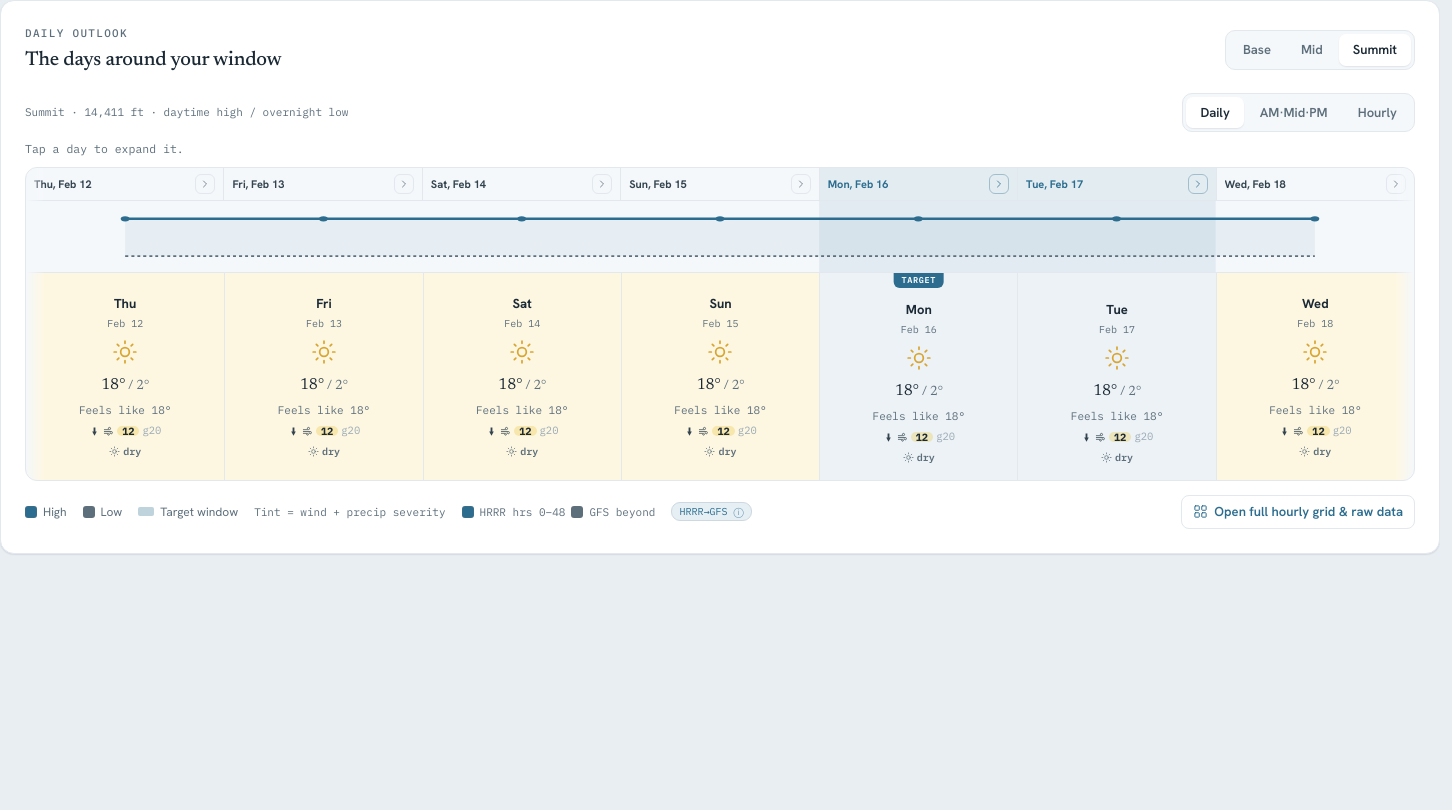
DailyOutlook › collapse control steps ONE level (hour → period), not all the way to day
The width and height of the screenshot is (1452, 810).
Click the button named "Expand Thu, Feb 12 to AM·Mid·PM detail": (205, 184) [195, 174, 215, 194]
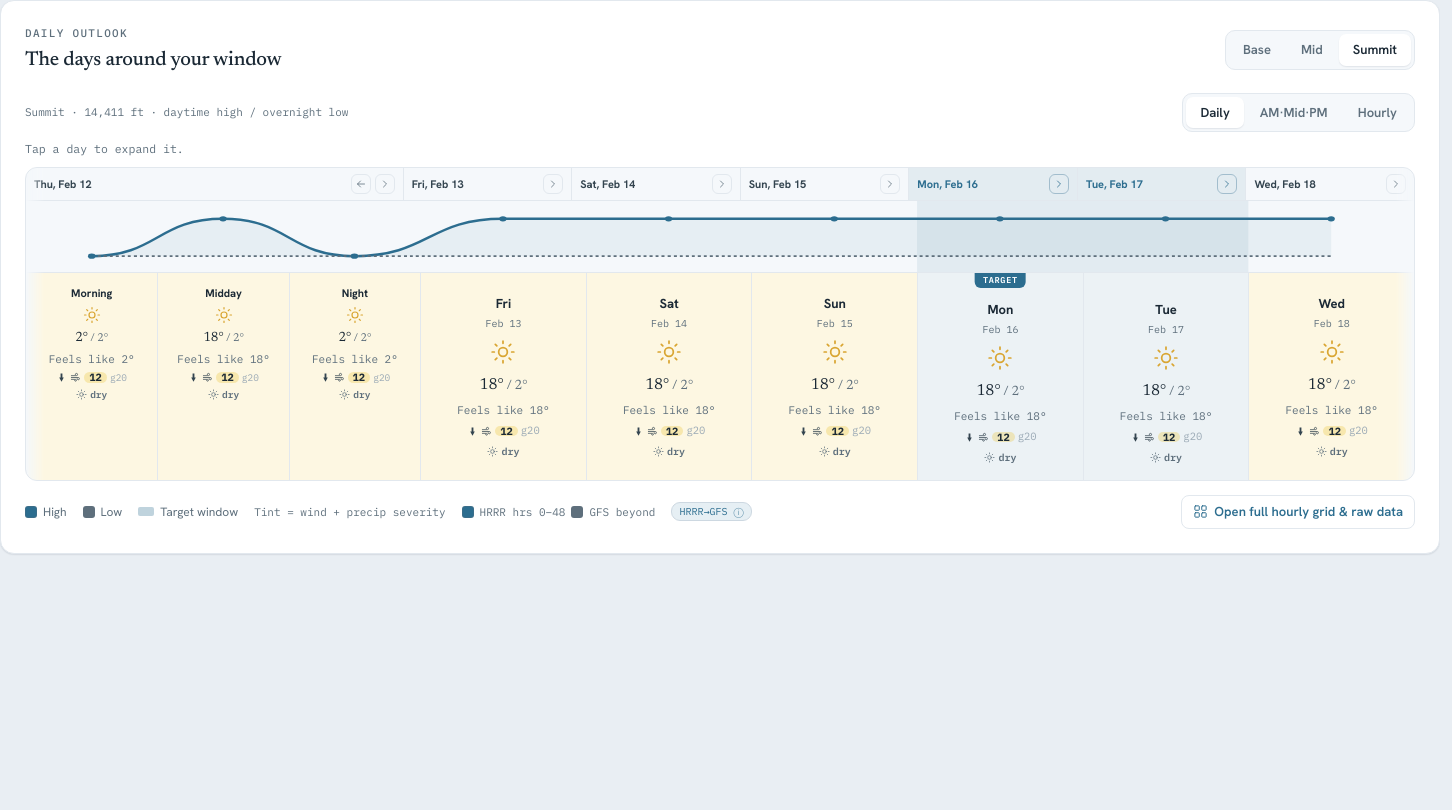
Click the button named "Expand Thu, Feb 12 to hourly detail": (385, 184) [375, 174, 395, 194]
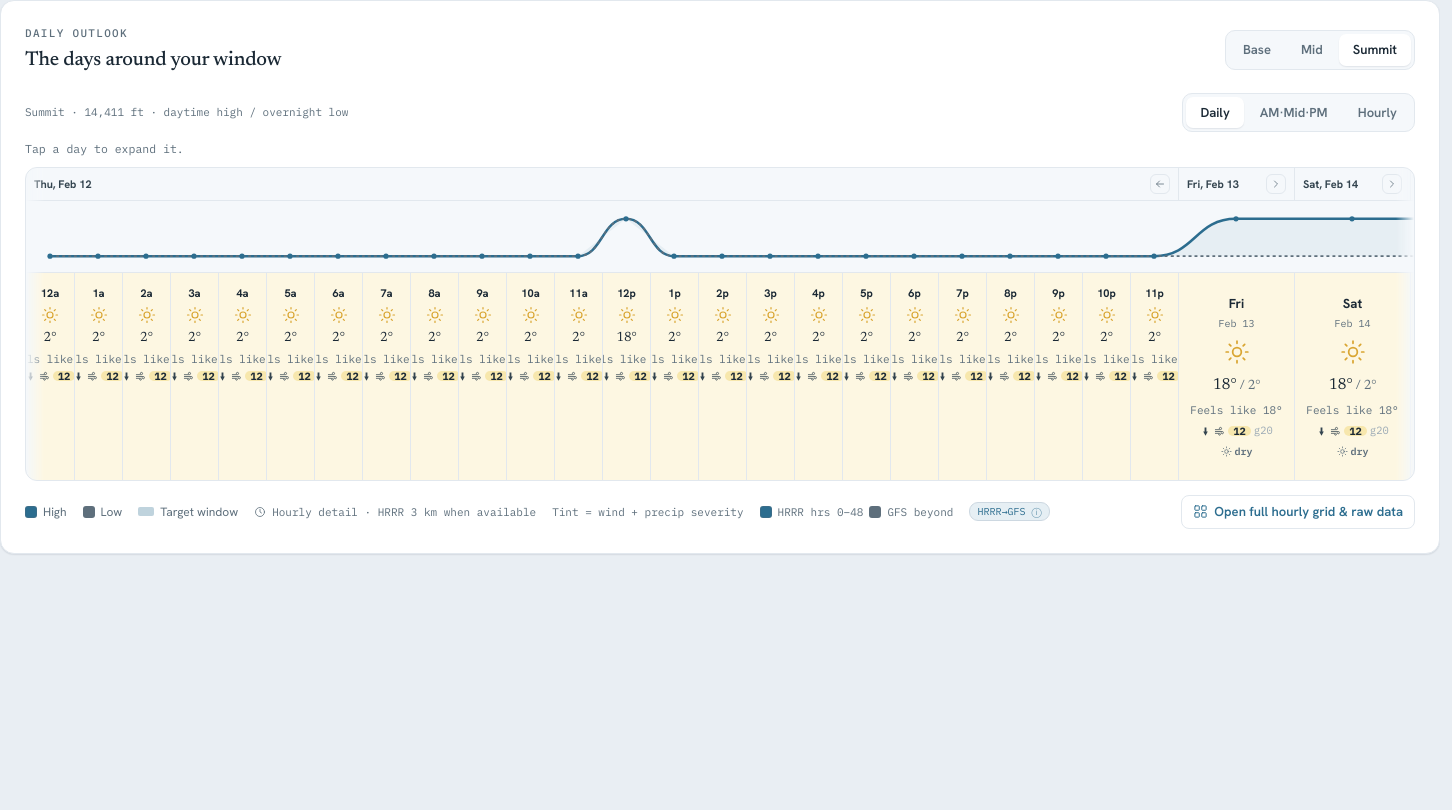
Click the button named "Collapse Thu, Feb 12 to AM·Mid·PM": (1160, 184) [1150, 174, 1170, 194]
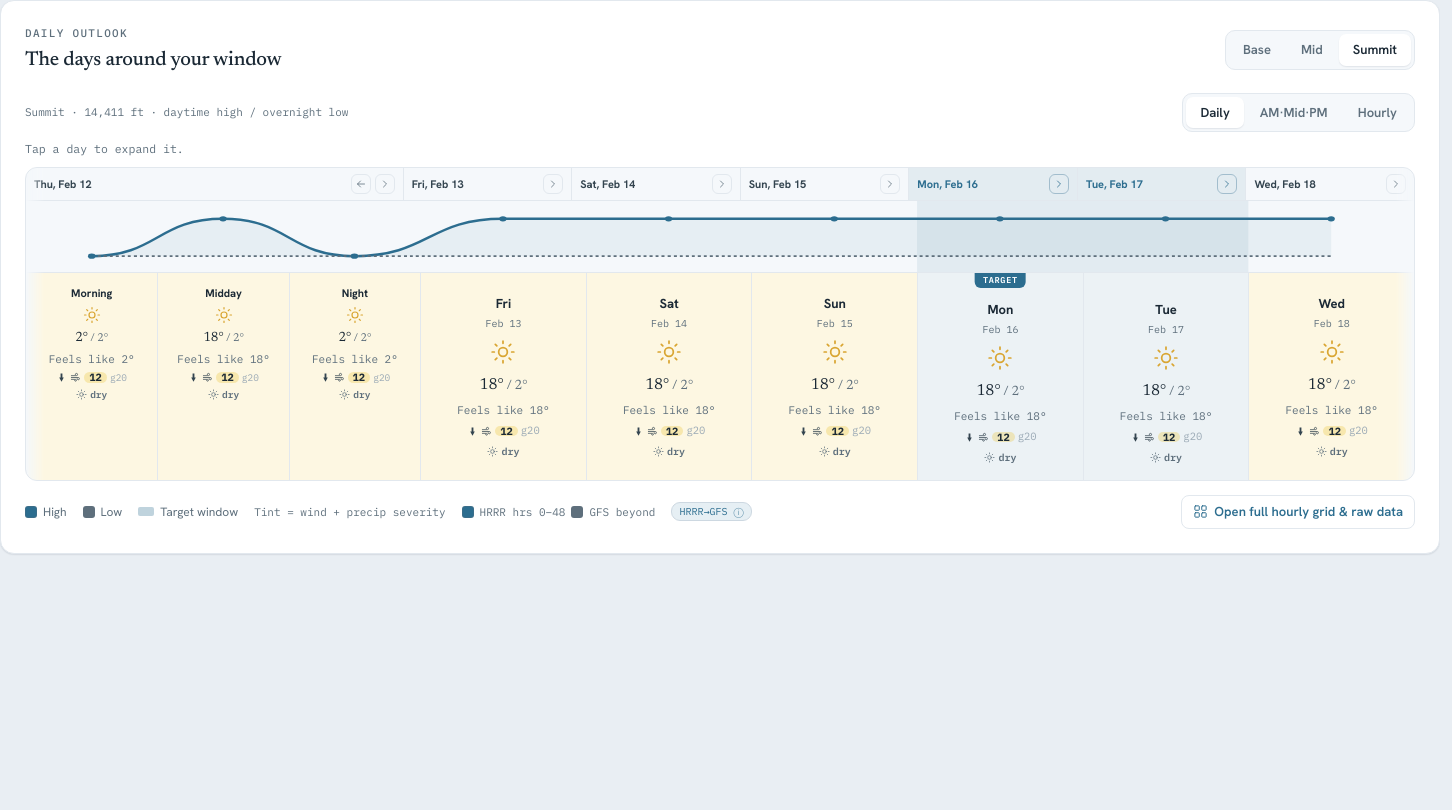
Check: the number of elements with class "day-tile" is 9
# second collapse → day (follows baseline): 7
Click the button named "Collapse Thu, Feb 12 to daily": (361, 184) [351, 174, 371, 194]
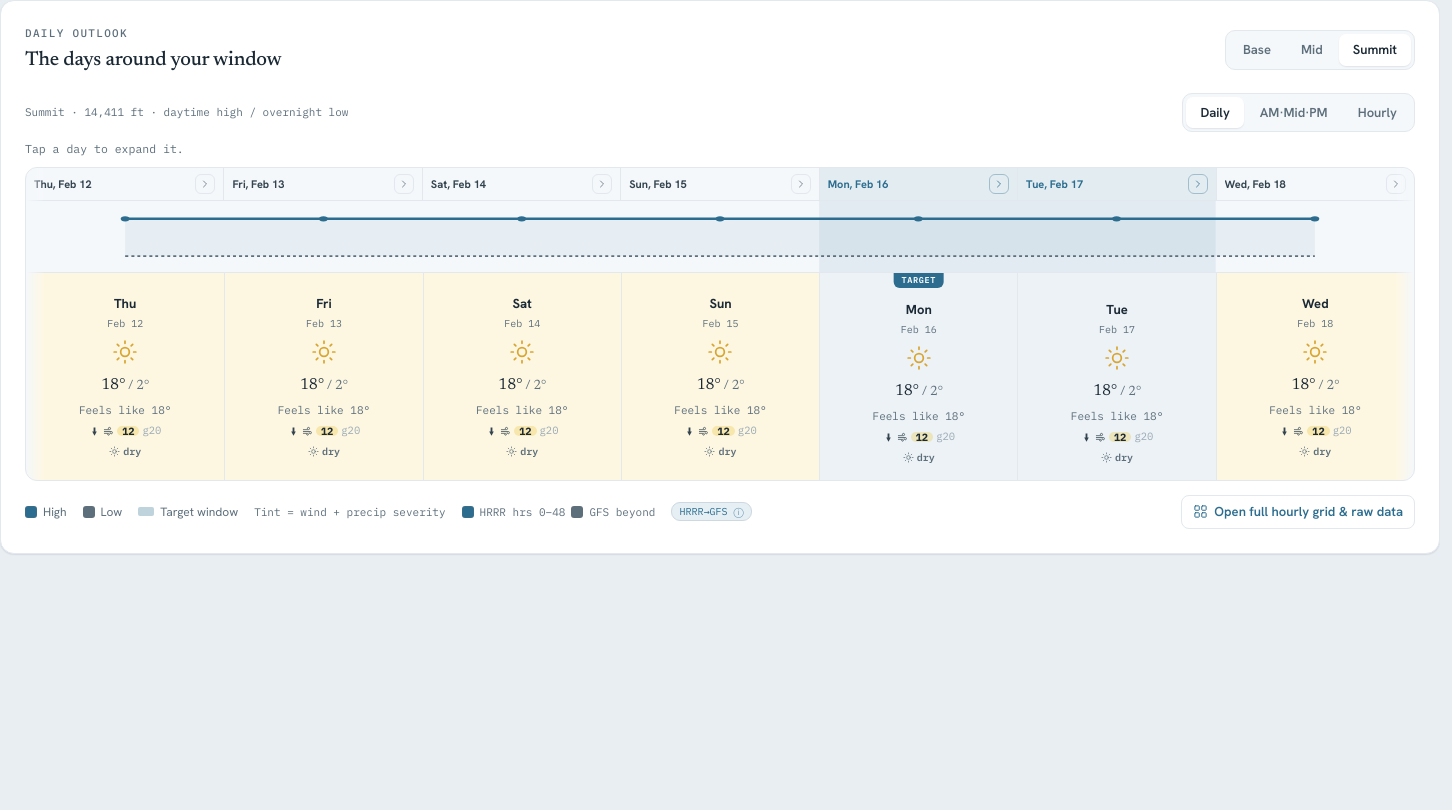
Check: the number of elements with class "day-tile" is 7
